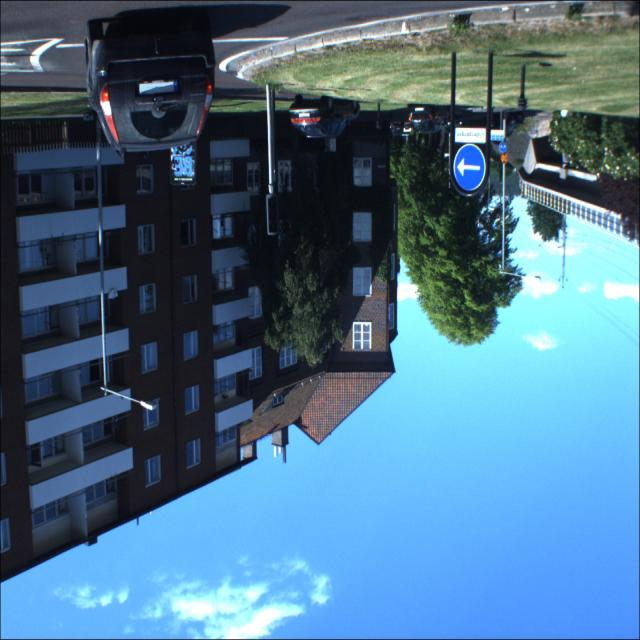Turn Left: (451, 146, 486, 192)
